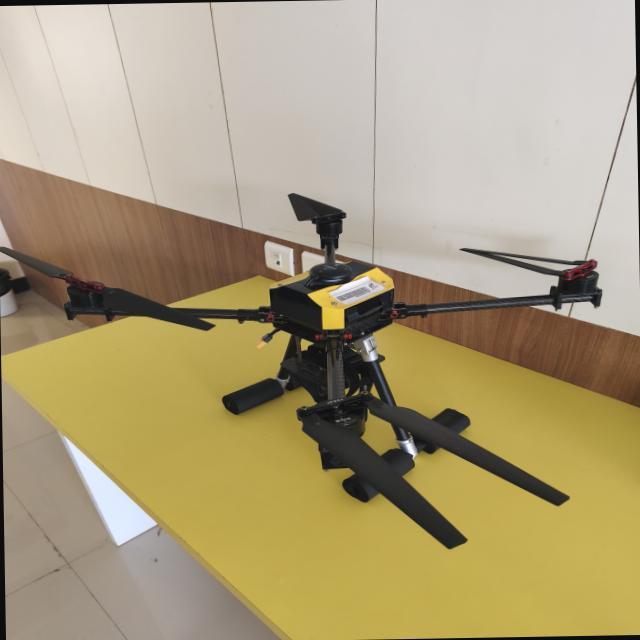quadcopter: (0, 179, 615, 559)
